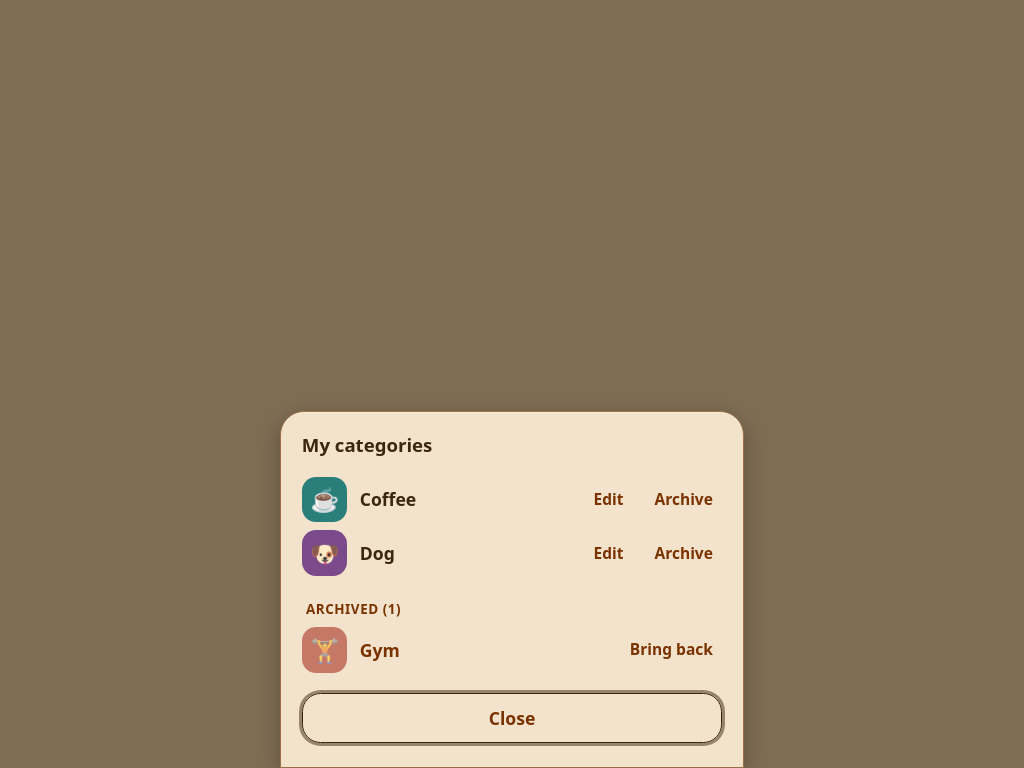
Test case: MyCategoriesSheet › editing › sends PUT with the changed name and the kept emoji and colour, then closes
The image size is (1024, 768).
Click the button "Edit" in the row of "Coffee" at (609, 499), box [584,477,633,522]
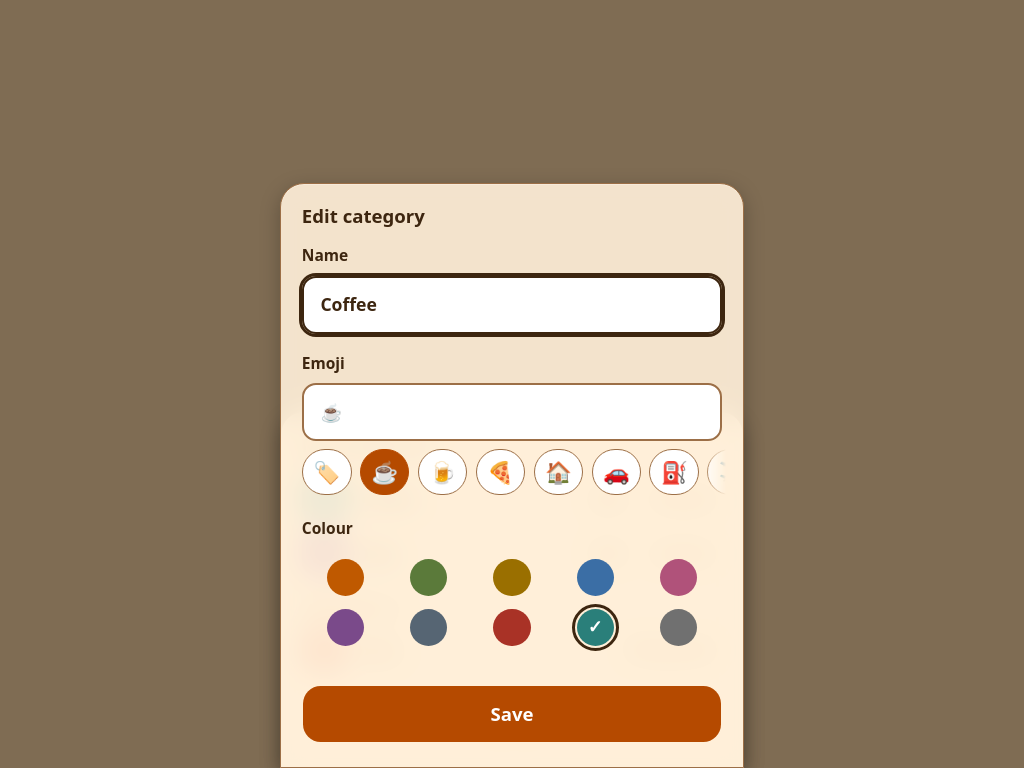
Type "Espresso" into the field labelled "Name" at (512, 305), box [302,276,722,334]
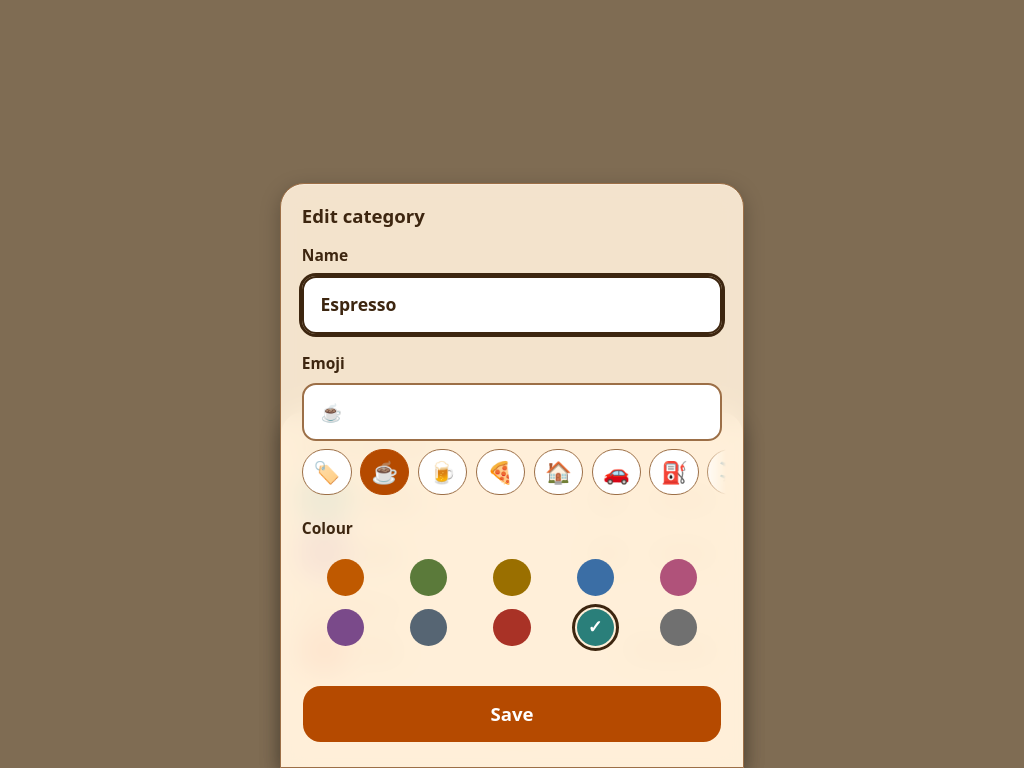
Click the button "Save" at (512, 714), box [302,685,722,743]
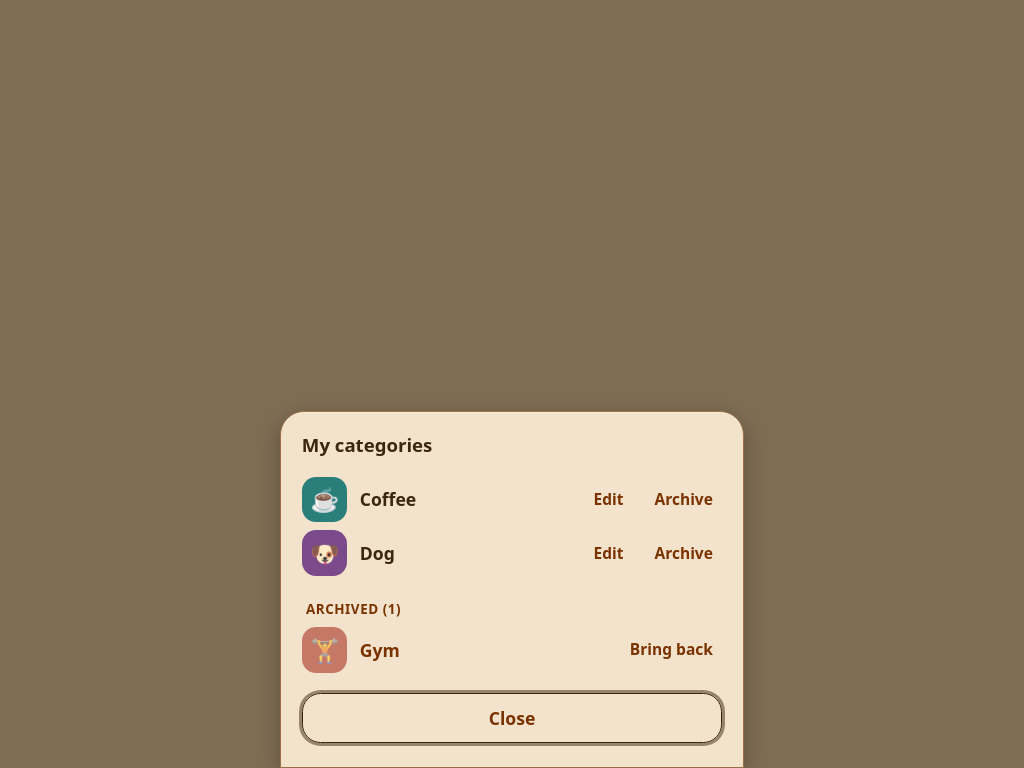
Now the heading "Edit category" is gone
